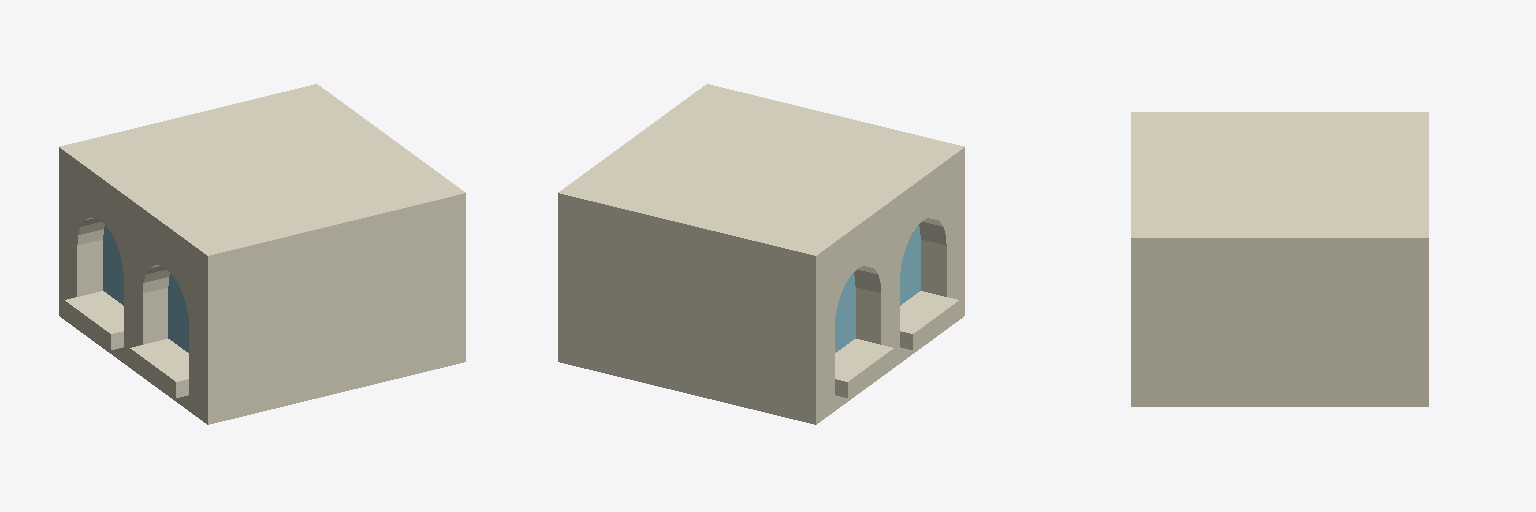
The model's file is floor3.obj.
The picture shows the model from 3 angles: view 1: azimuth 30°, elevation 25°; view 2: azimuth 150°, elevation 25°; view 3: azimuth 270°, elevation 25°; orthographic projection.
Parts seen in each view (by area): view 1: floor3; view 2: floor3; view 3: floor3.
Part boxes in pixels (bbox=[...]): floor3: bbox=[59, 84, 465, 424]; floor3: bbox=[558, 84, 964, 424]; floor3: bbox=[1131, 112, 1428, 406].
Size of the model in its own units: 1.05 by 0.625 by 1.